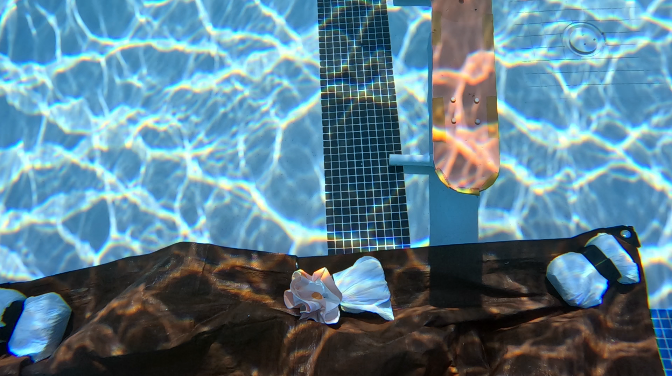pathmarker: (431, 0, 499, 194)
sandbag: (0, 227, 663, 375)
